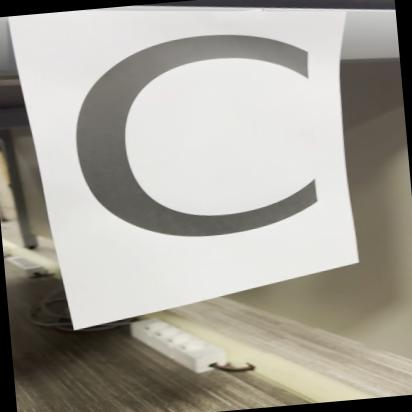seat: (42, 1, 357, 302)
